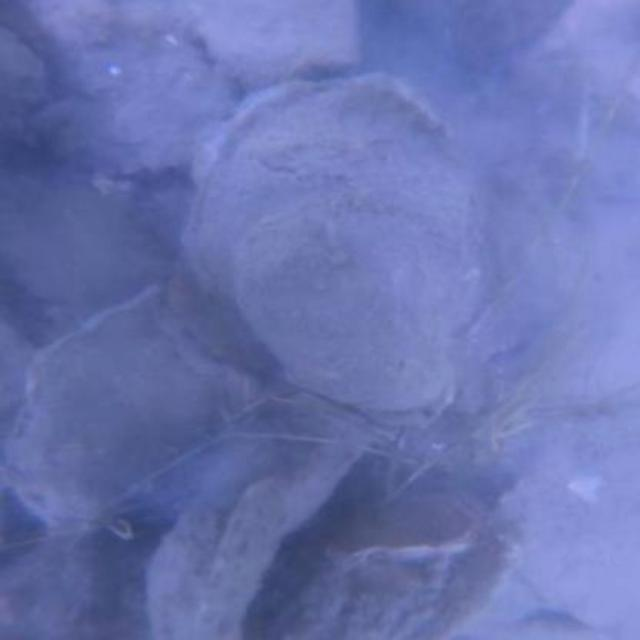Oyster-Closed: (182, 63, 470, 323), (234, 214, 455, 433), (12, 311, 223, 522), (0, 0, 231, 178), (410, 514, 536, 638), (316, 495, 501, 567), (196, 2, 358, 83)
Oyster-Open: (141, 399, 378, 638)
